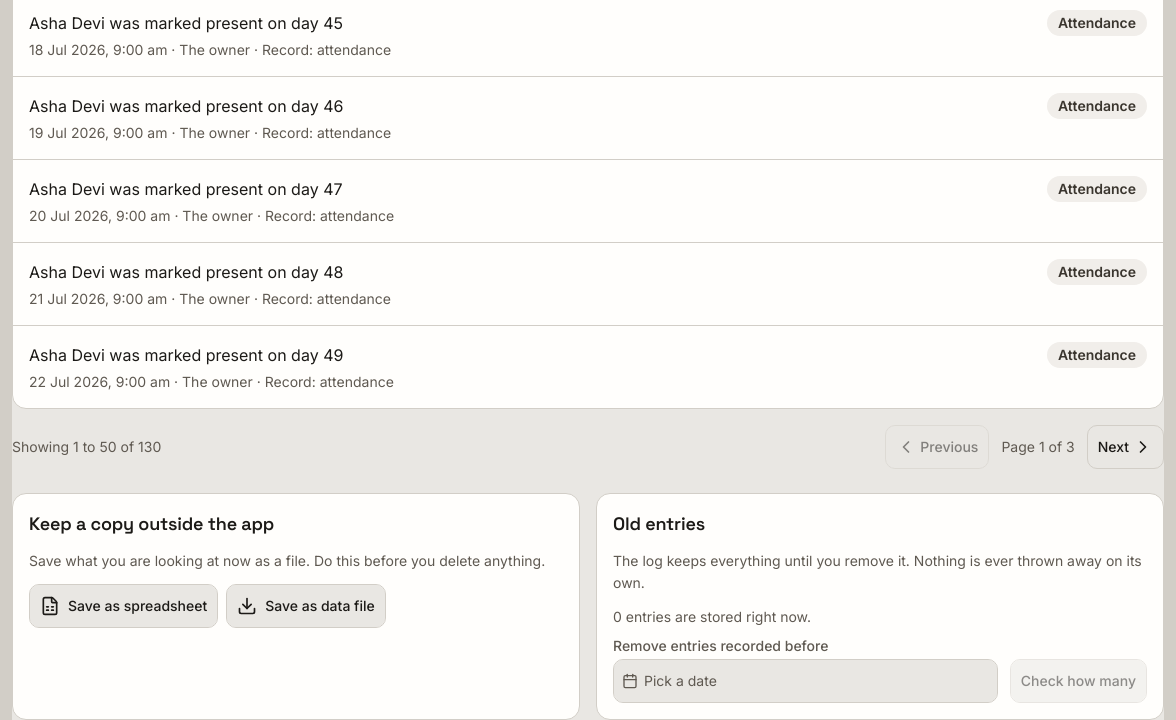
Test case: activity log viewer › reads only the page it shows, and turns the page through the query
This screenshot has width=1176, height=720.
(page scrolled)
Expected: the text "Showing 1 to 50 of 130" is shown, [12,436,161,456]
Click the button "Next": (1125,446) [1087,424,1164,468]
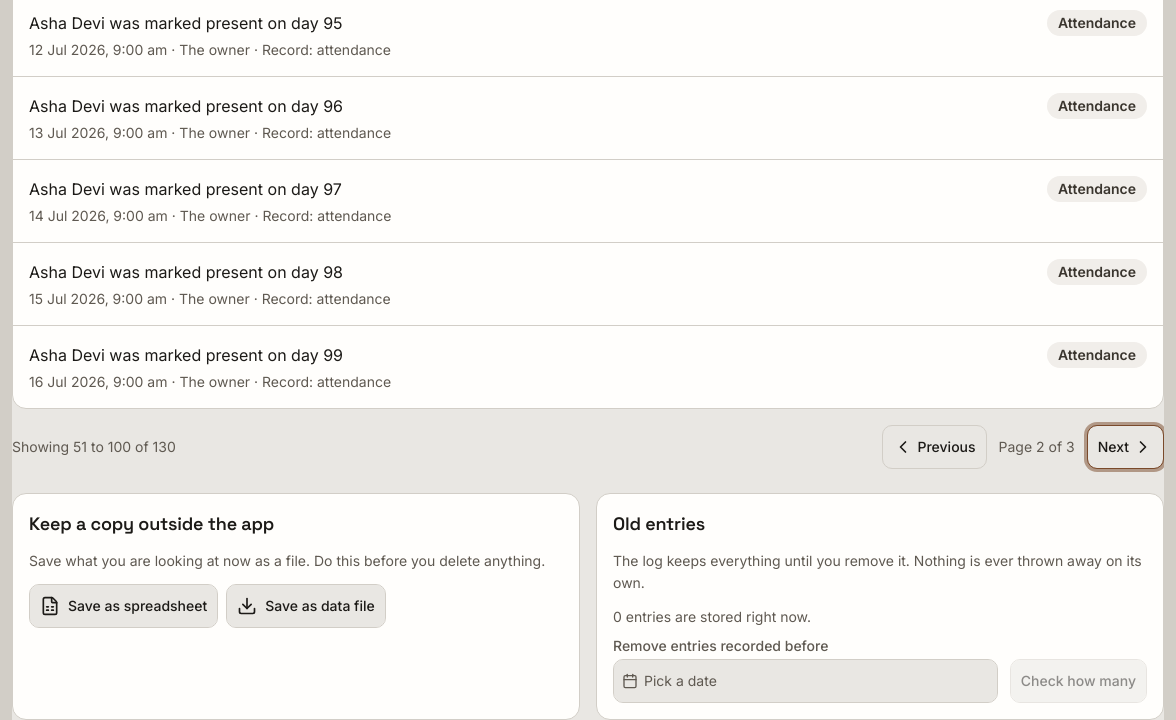
Result: the text "Showing 51 to 100 of 130" is shown at [12,436,176,456]
